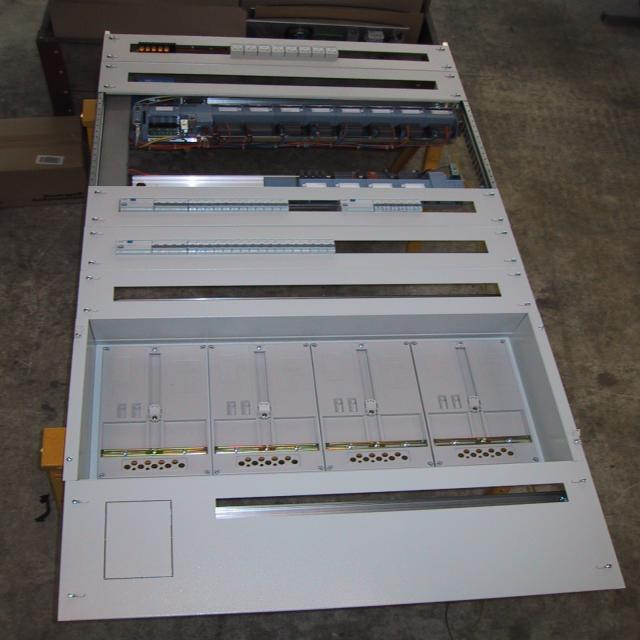Dimmer: (244, 43, 258, 52), (325, 46, 339, 54), (258, 44, 271, 52), (285, 45, 298, 53), (299, 45, 312, 53), (231, 43, 243, 51), (272, 44, 284, 52), (312, 46, 325, 53)
FI_Sicherungskombi: (116, 240, 152, 255), (120, 198, 154, 212), (341, 199, 374, 211)
Leitungsschutzschalter: (411, 199, 423, 212), (326, 239, 336, 254), (266, 240, 276, 254), (240, 240, 250, 254), (231, 240, 241, 254), (187, 240, 197, 254), (317, 239, 326, 254), (275, 239, 284, 254), (404, 199, 414, 212), (309, 240, 318, 254), (301, 240, 310, 254), (292, 240, 301, 254), (257, 240, 266, 254), (222, 240, 231, 254), (205, 240, 214, 254), (197, 240, 206, 254), (160, 240, 169, 254), (169, 240, 178, 254), (178, 240, 187, 254), (179, 198, 188, 212), (154, 198, 163, 212), (249, 239, 257, 254), (389, 199, 399, 211), (381, 199, 391, 211), (373, 199, 383, 211), (255, 198, 264, 211), (189, 198, 198, 211), (284, 240, 292, 254), (214, 240, 222, 254), (152, 240, 160, 254), (171, 198, 179, 212), (397, 200, 407, 211), (280, 199, 289, 211), (230, 199, 239, 211), (205, 199, 214, 211), (264, 199, 272, 212), (247, 198, 255, 211), (239, 198, 247, 211), (163, 199, 171, 212), (222, 199, 230, 211), (214, 199, 222, 211), (197, 199, 205, 211), (272, 199, 279, 211)
SPS_System_Steuerungskomponente: (181, 104, 213, 122), (429, 172, 464, 188), (274, 104, 308, 116), (333, 105, 366, 117), (364, 106, 397, 118), (393, 106, 428, 117), (148, 104, 180, 116), (242, 105, 276, 116), (132, 103, 148, 125), (212, 105, 244, 116), (304, 106, 336, 117), (424, 107, 456, 118), (365, 179, 400, 188), (333, 179, 367, 188), (298, 179, 334, 187), (398, 180, 433, 188)
